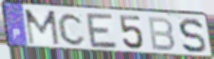5: (118, 14, 146, 51)
B: (146, 15, 177, 52)
C: (57, 12, 87, 47)
E: (85, 12, 120, 50)
M: (23, 8, 61, 47)
S: (177, 17, 208, 55)
